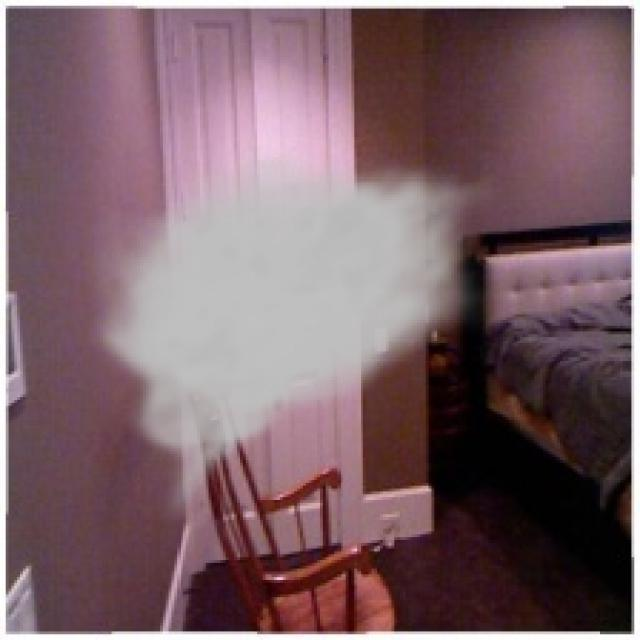Smoke: (82, 146, 498, 528)
